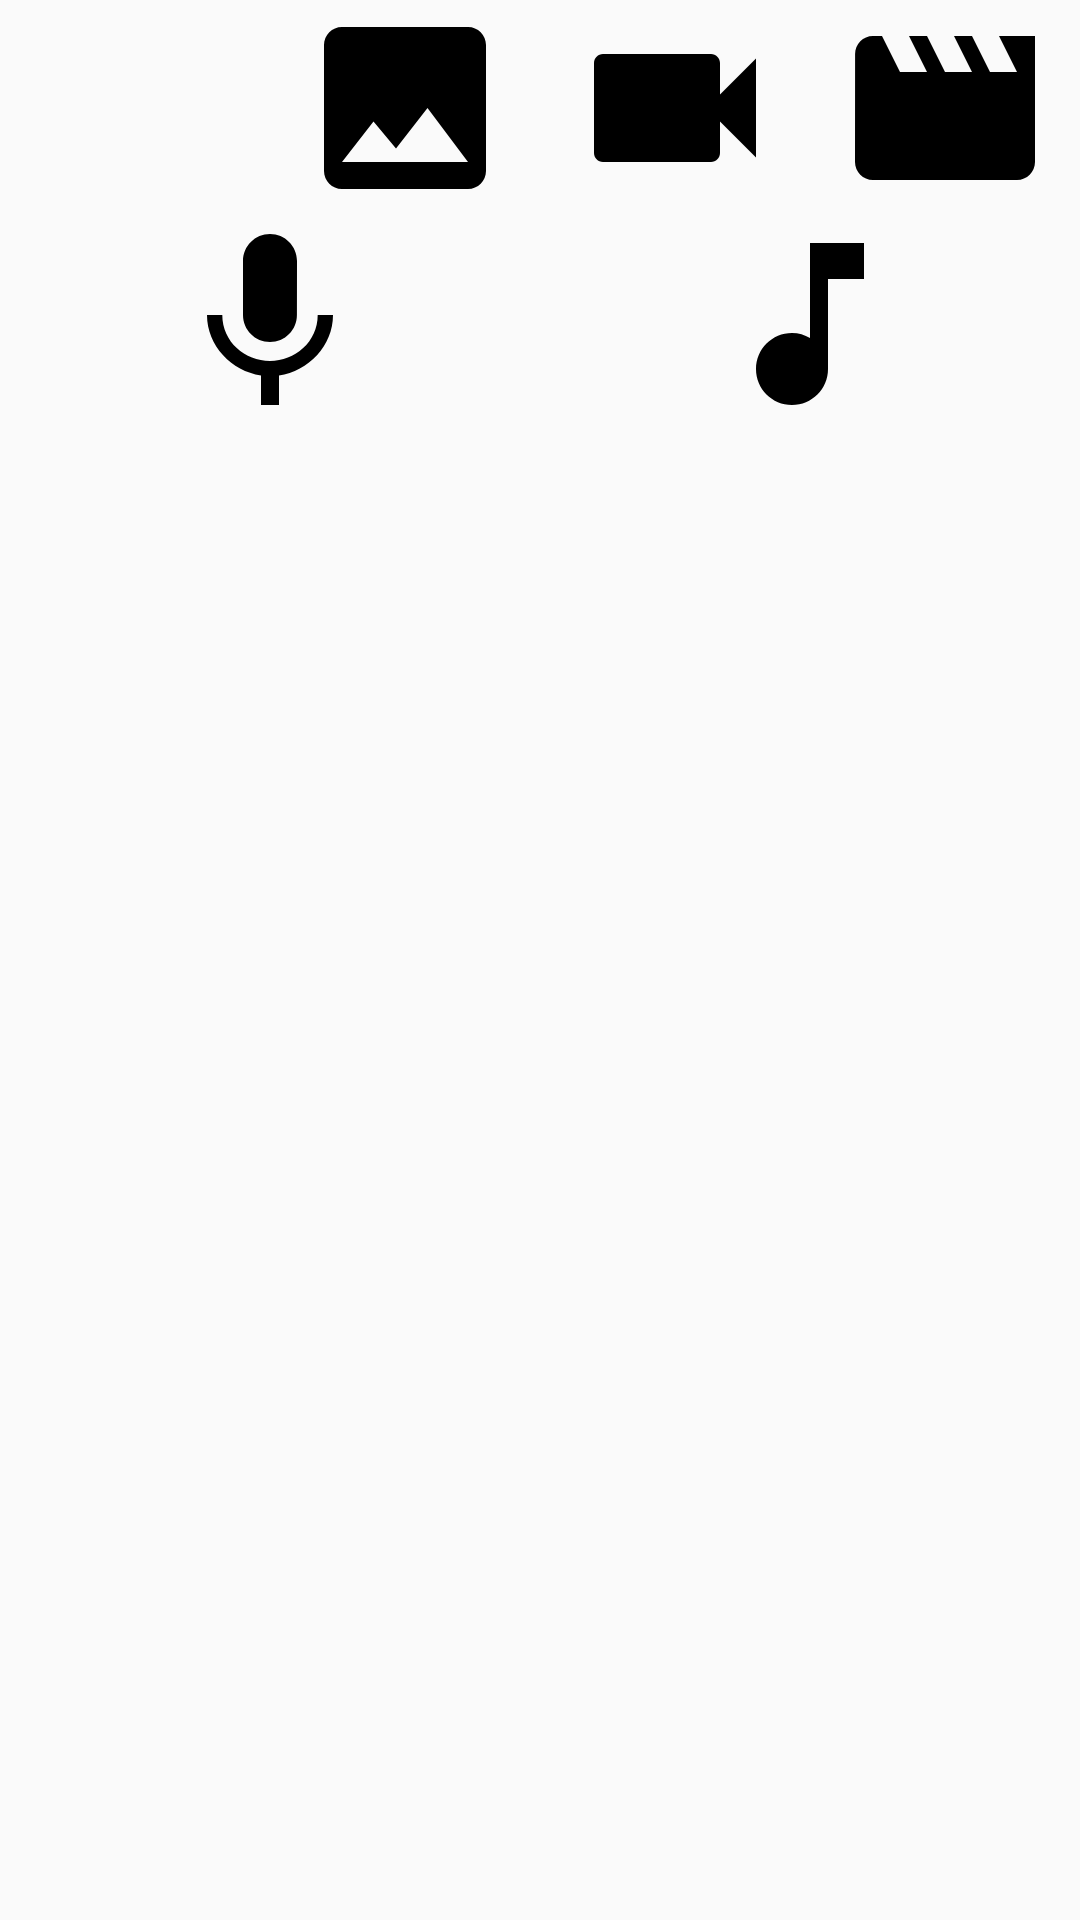

Icon bounding boxes for this 1080x1920 phone screenshot, format (x1, y1, x2, y2):
Record audio: (207, 234, 333, 405)
Record video: (594, 54, 756, 162)
Select audio: (756, 243, 864, 405)
Select image: (324, 27, 486, 189)
Select video: (855, 36, 1035, 180)
